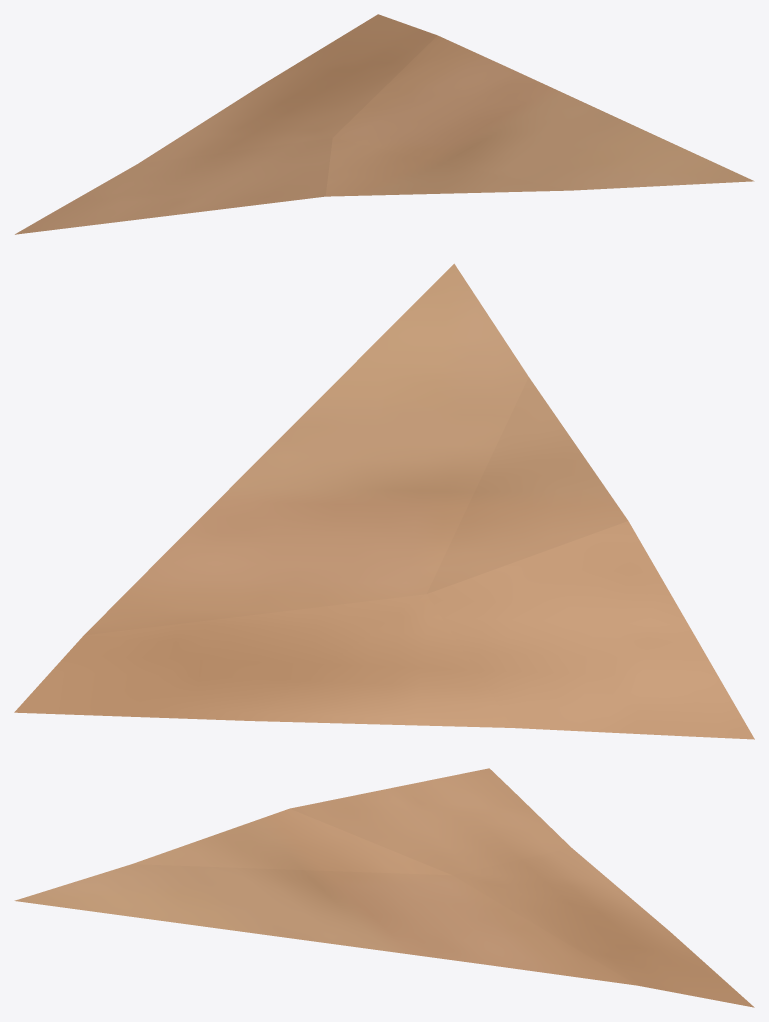
The picture shows the model from 3 angles, top to bottom: view 1: azimuth 30°, elevation 25°; view 2: azimuth 150°, elevation 25°; view 3: azimuth 270°, elevation 25°; orthographic projection. The views are drawn at different scales.
Size of the model in its own units: 0.1946 by 0.0405 by 0.2544.
1 material, 1 textured.
